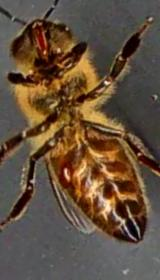varroa_mite: (44, 156, 84, 195)
